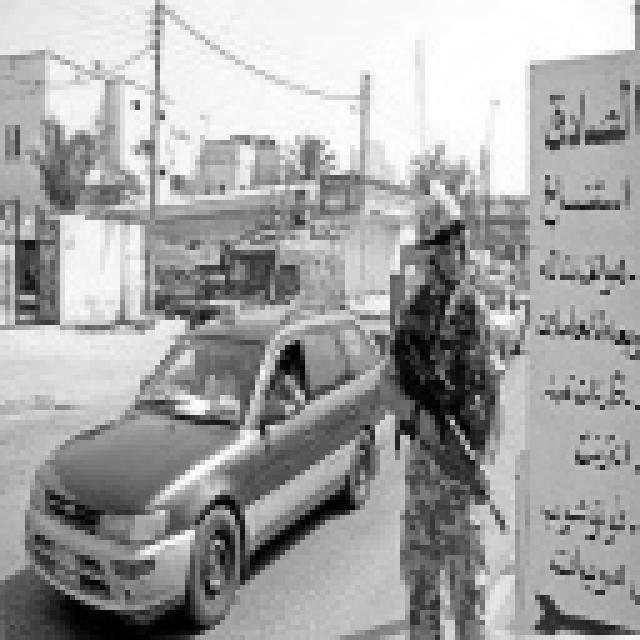Rifle: (388, 305, 527, 537)
